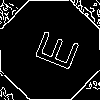E: (25, 25, 80, 73)
